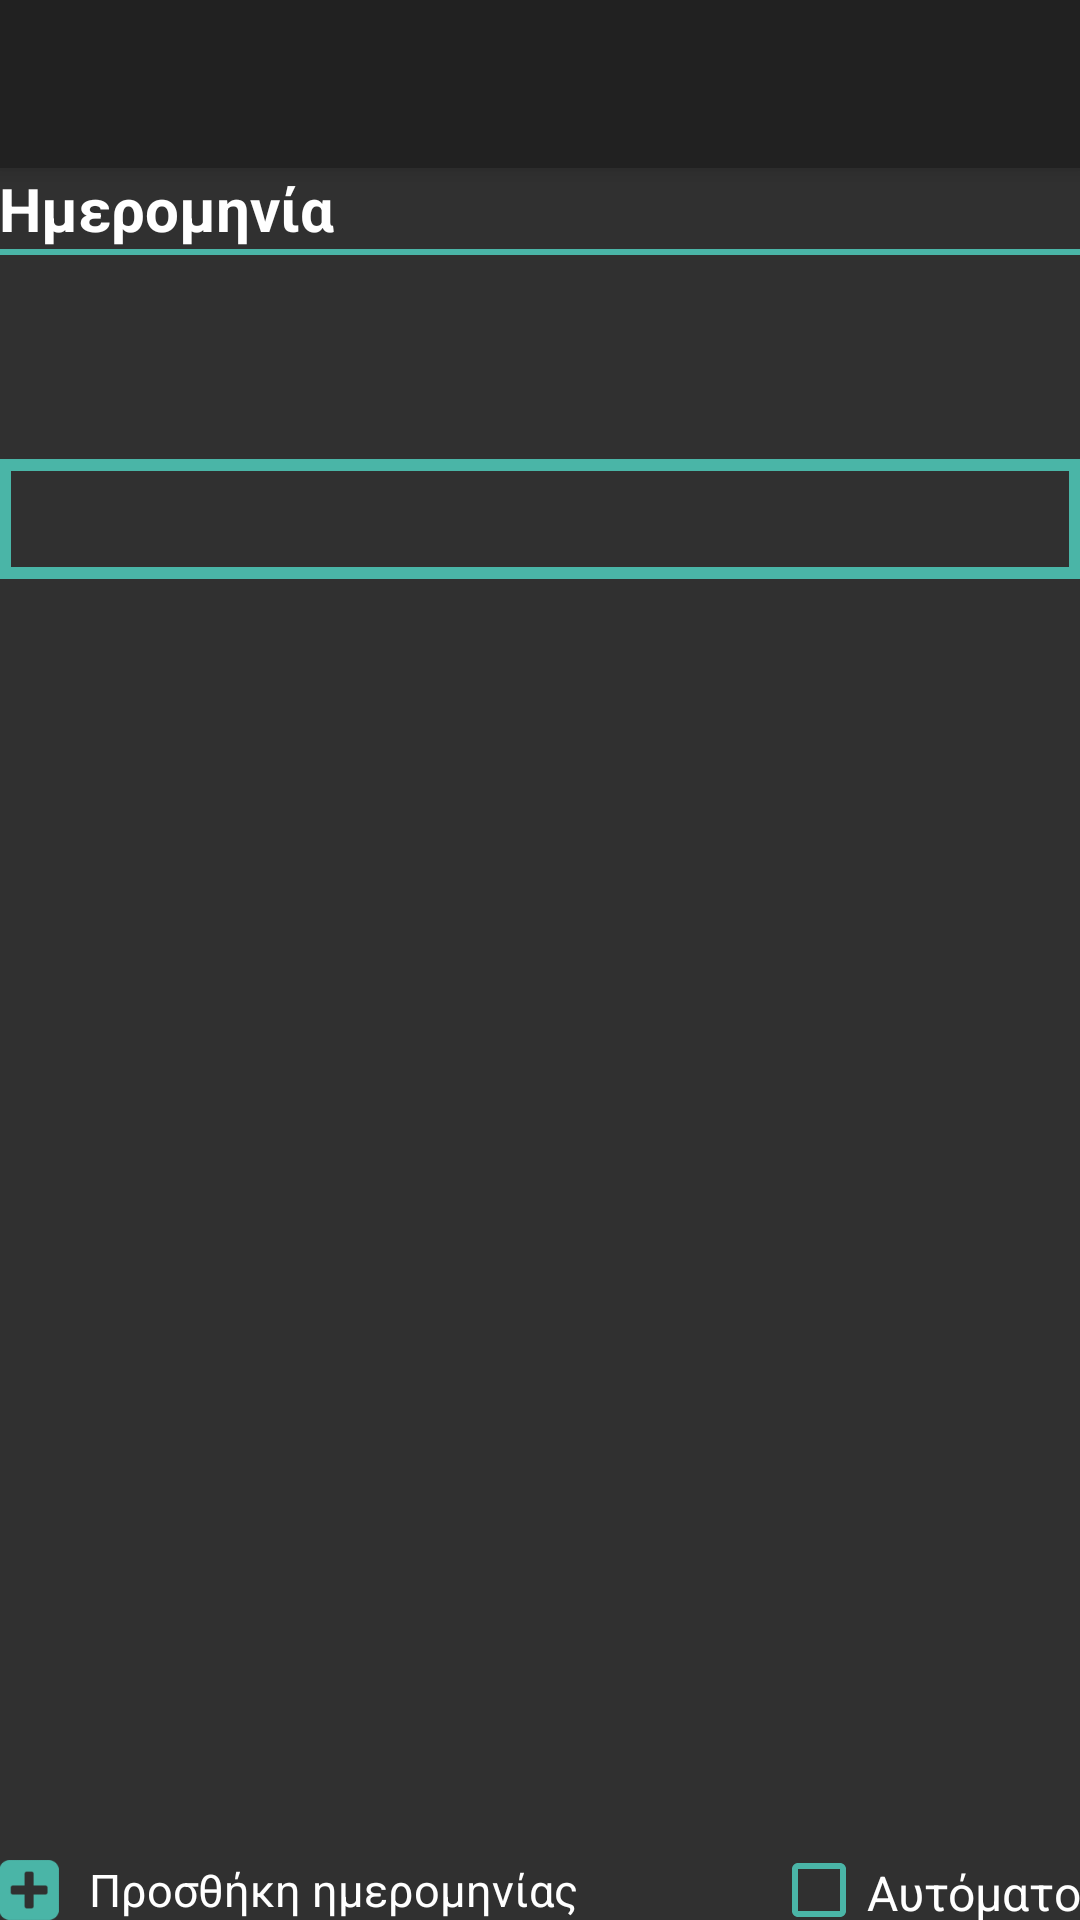

Icon bounding boxes for this 1080px x 1920px phone screenshot, format detection(x1, y1, x2, y2):
add: detection(0, 1860, 59, 1920)
